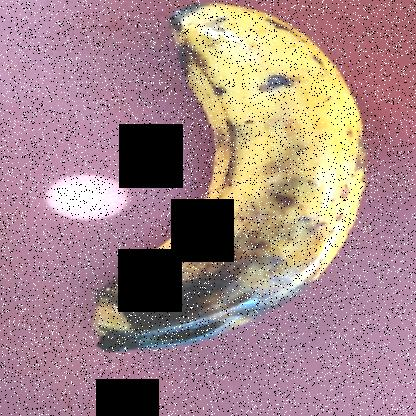rotten: (57, 0, 389, 367)
